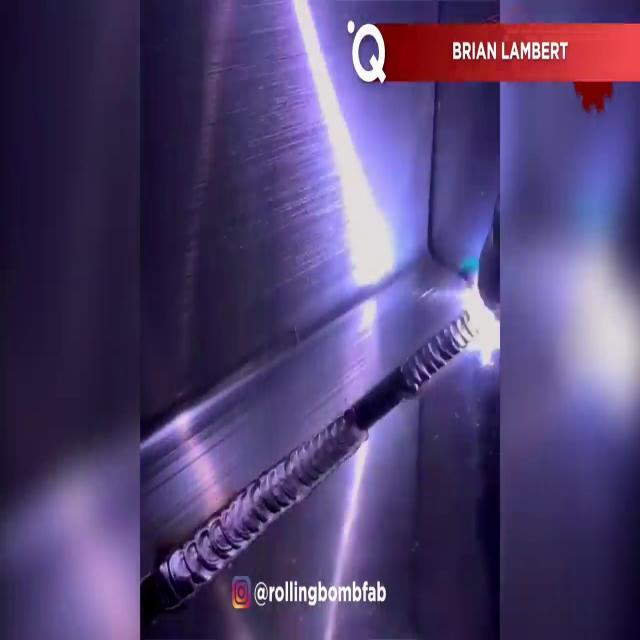Good Weld: (184, 432, 356, 556), (404, 332, 476, 388)
